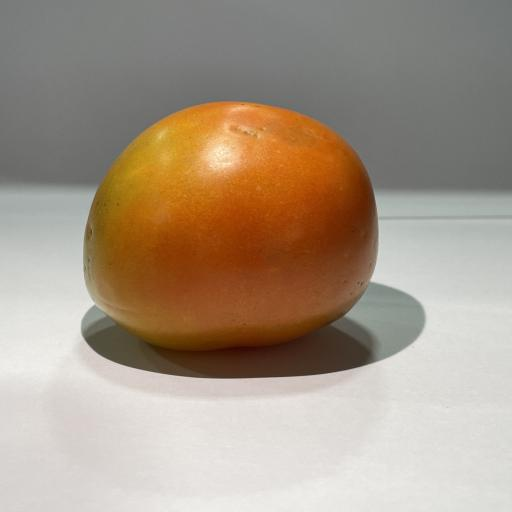unripe: (83, 102, 378, 350)
